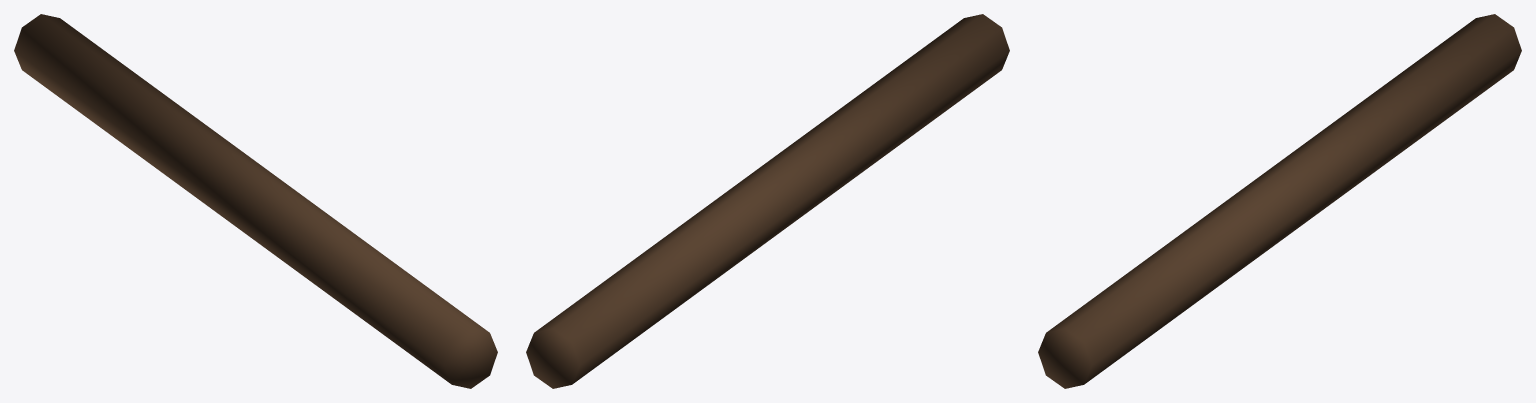
The model's file is ProcessedTree.fbx.
3 views of the same model, side by side, from view 1: azimuth 30°, elevation 25°; view 2: azimuth 150°, elevation 25°; view 3: azimuth 330°, elevation 25° (orthographic).
Visible parts, largest first — view 1: Log_1.001; view 2: Log_1.001; view 3: Log_1.001.
Boxes of the visible parts, x1,y1,x2,y2 form: Log_1.001: [14, 14, 497, 388]; Log_1.001: [526, 14, 1009, 388]; Log_1.001: [1038, 14, 1521, 388].
Bounding box in the file's own units: 28.95 × 30.9 × 399.
